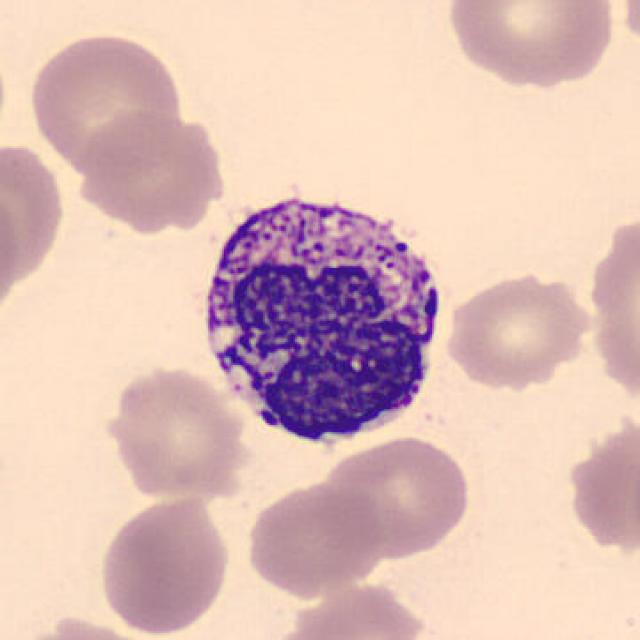Basophil: (190, 175, 455, 460)
RBC: (23, 28, 187, 175), (97, 362, 250, 502), (70, 107, 234, 235), (94, 492, 235, 636), (318, 432, 475, 561), (441, 268, 594, 391), (240, 480, 386, 598), (441, 0, 620, 90), (560, 407, 638, 564), (2, 134, 69, 312), (585, 212, 640, 402), (268, 578, 431, 640), (9, 612, 169, 640), (0, 166, 25, 326), (613, 0, 640, 65), (0, 40, 11, 157)
